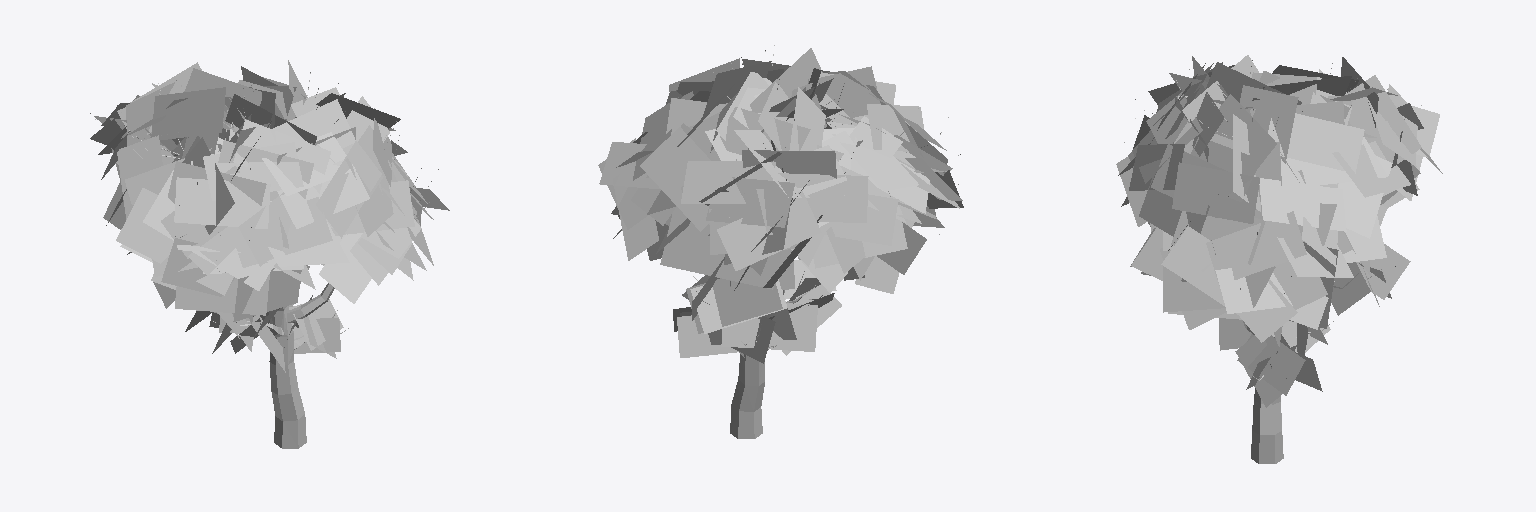
Rendered from tree5.obj.
3 renders of one model, left to right at view 1: azimuth 30°, elevation 25°; view 2: azimuth 150°, elevation 25°; view 3: azimuth 270°, elevation 25°, orthographic.
Parts seen in each view (by area): view 1: Tree_Conifer_1; view 2: Tree_Conifer_1; view 3: Tree_Conifer_1.
Part boxes in pixels (bbox=[...]): Tree_Conifer_1: bbox=[90, 60, 449, 448]; Tree_Conifer_1: bbox=[598, 45, 963, 438]; Tree_Conifer_1: bbox=[1116, 55, 1442, 463].
Size of the model in its own units: 5.88 by 6.33 by 4.98.